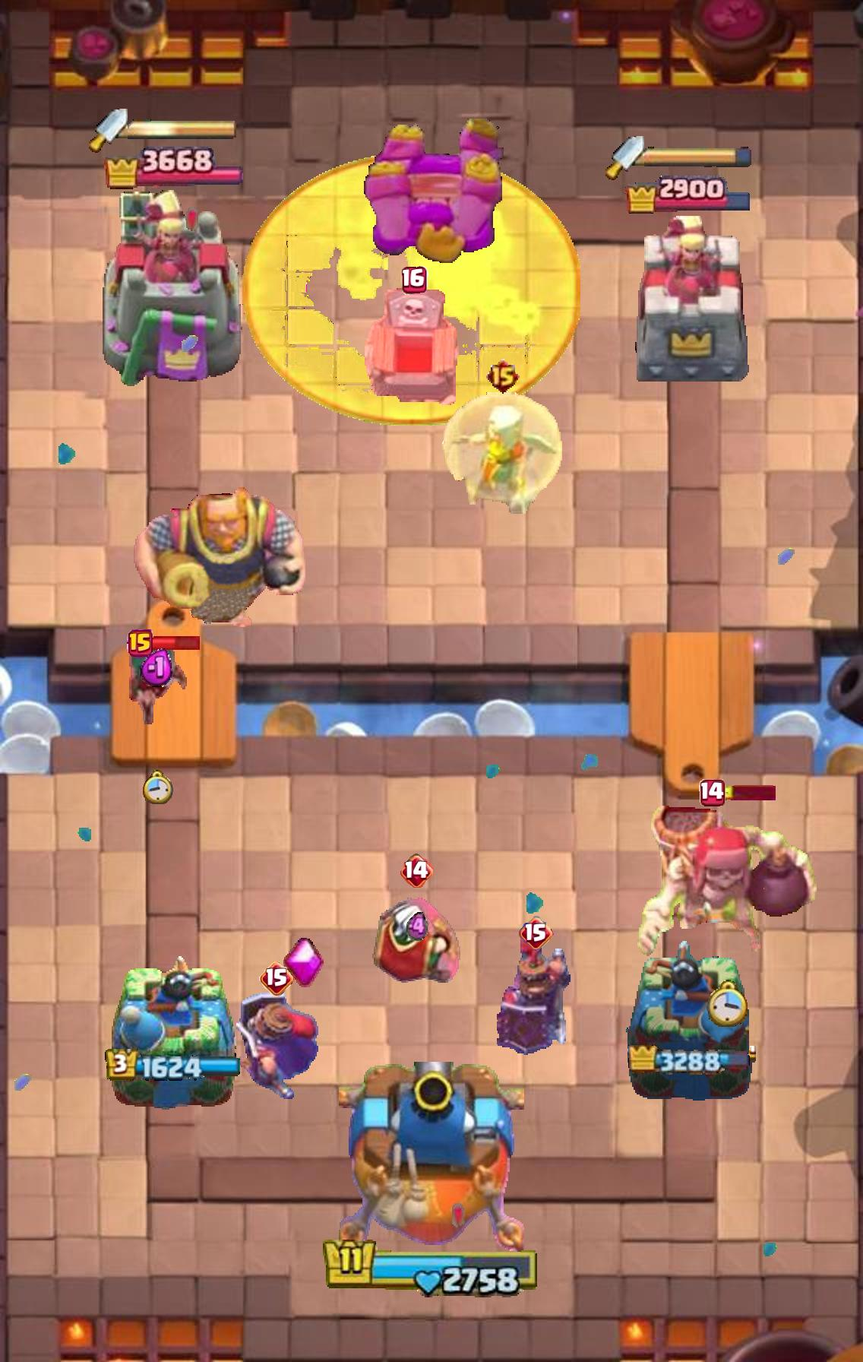elixir: (140, 648, 176, 688), (406, 911, 428, 943)
